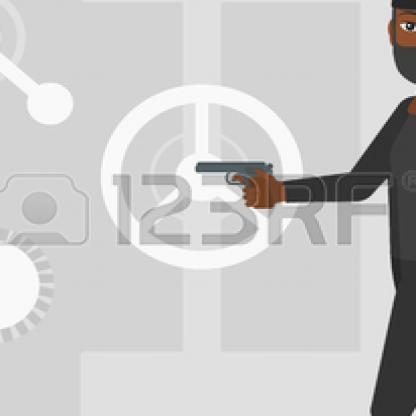gun: (188, 148, 295, 222)
